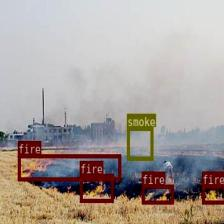fire: (18, 153, 120, 181), (79, 174, 112, 202), (142, 184, 173, 203), (201, 184, 224, 203)
smoke: (126, 126, 152, 160)
